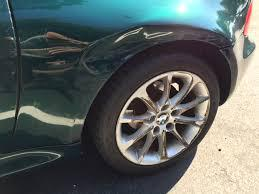quaterpanel-dent: (43, 0, 137, 127)
